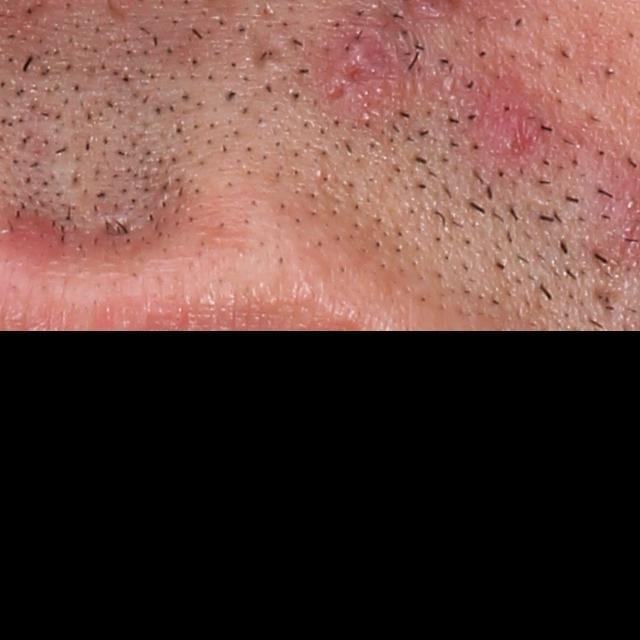atrophic_scar: (587, 282, 633, 338), (246, 25, 295, 73)
